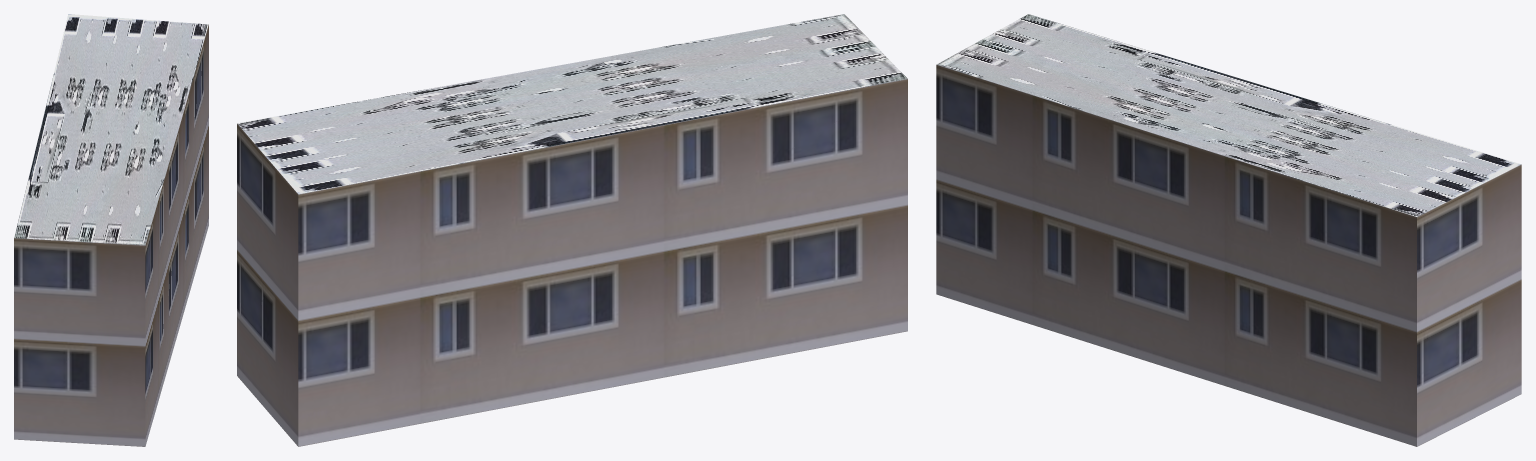
The model's file is ResTex__1033.fbx.
3 renders of one model, left to right at view 1: azimuth 30°, elevation 25°; view 2: azimuth 150°, elevation 25°; view 3: azimuth 270°, elevation 25°, orthographic. The views are drawn at different scales.
Parts seen in each view (by area): view 1: CityEngineMaterial_21_m, CityEngineMaterial_4_m; view 2: CityEngineMaterial_21_m, CityEngineMaterial_4_m; view 3: CityEngineMaterial_21_m, CityEngineMaterial_4_m.
Part boxes in pixels (x1,y1,x2,y2): CityEngineMaterial_21_m: [14, 24, 208, 446]; CityEngineMaterial_4_m: [14, 14, 208, 245]; CityEngineMaterial_21_m: [237, 79, 907, 446]; CityEngineMaterial_4_m: [237, 14, 907, 194]; CityEngineMaterial_21_m: [936, 64, 1521, 446]; CityEngineMaterial_4_m: [937, 14, 1520, 216].
Size of the model in its own units: 11.37 by 6 by 13.84.
2 materials, 2 textured.
